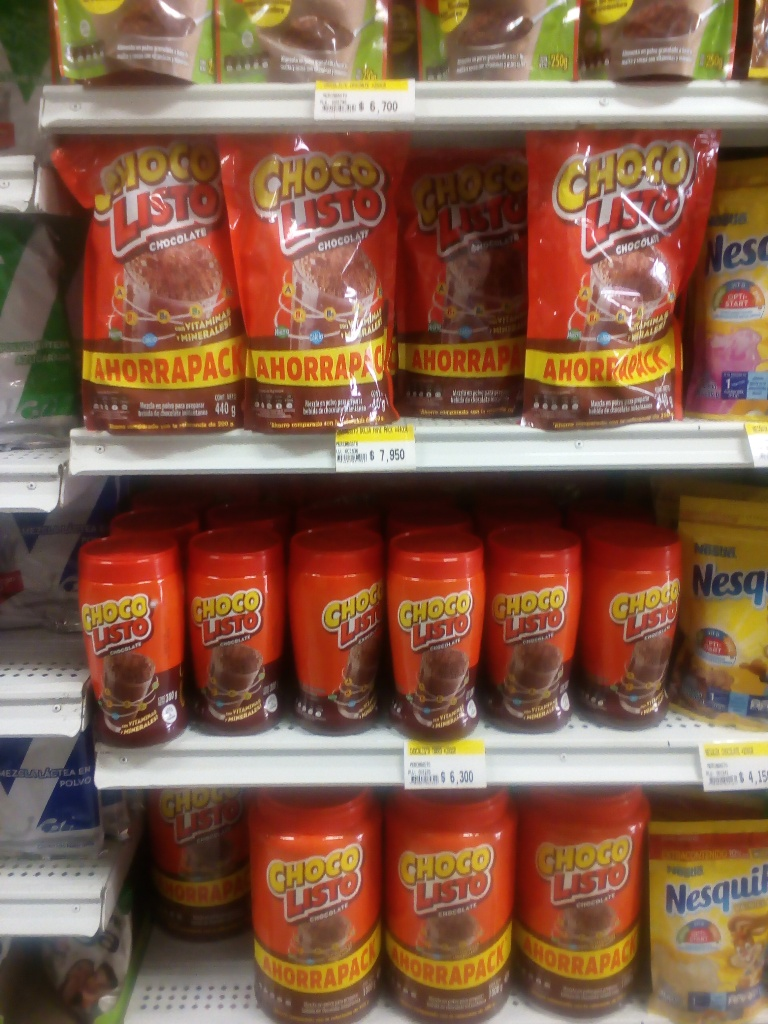COL0170103DYP44000: (54, 135, 245, 432)
COL0170103TRR00100: (146, 790, 252, 941)
